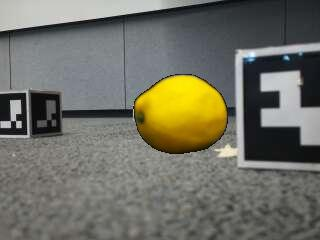lemon: (133, 74, 226, 152)
